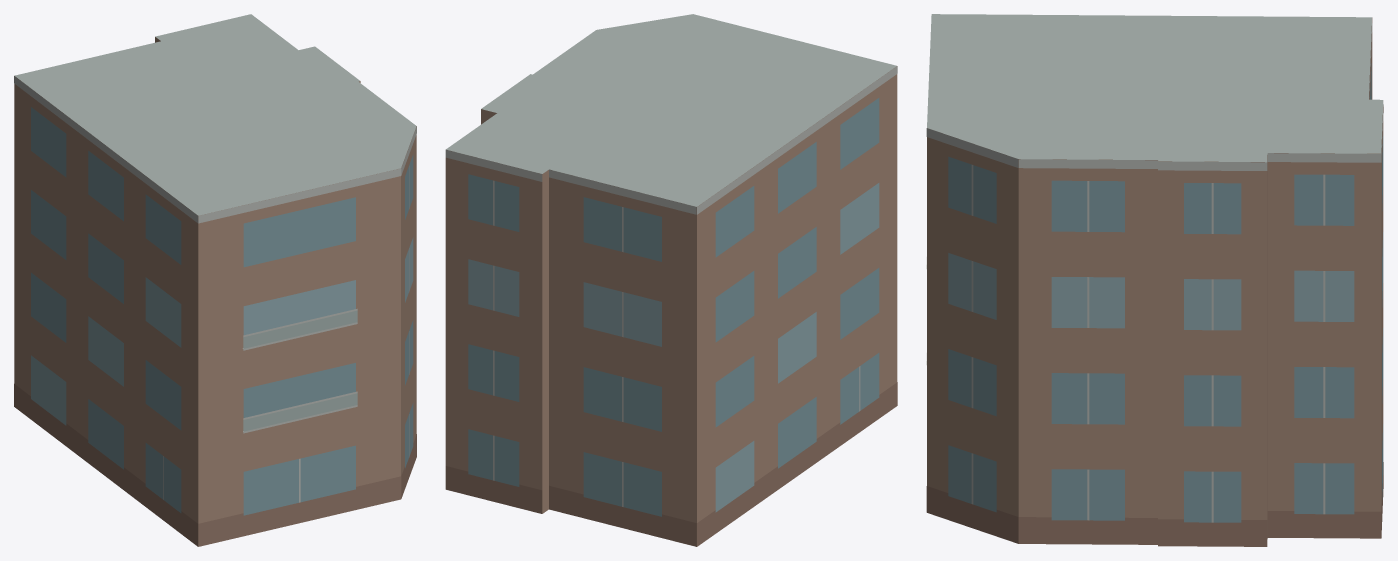
File: survey-upis-32620014.glb
3 renders of one model, left to right at view 1: azimuth 30°, elevation 25°; view 2: azimuth 150°, elevation 25°; view 3: azimuth 270°, elevation 25°, orthographic. The views are drawn at different scales.
Visible parts, largest first — view 1: survey-upis-32620014.tmp; view 2: survey-upis-32620014.tmp; view 3: survey-upis-32620014.tmp.
Boxes of the visible parts, x1,y1,x2,y2 form: survey-upis-32620014.tmp: [14, 14, 416, 546]; survey-upis-32620014.tmp: [445, 14, 897, 546]; survey-upis-32620014.tmp: [926, 14, 1383, 546].
Bounding box in the file's own units: 8.6 × 10.4 × 11.21.
